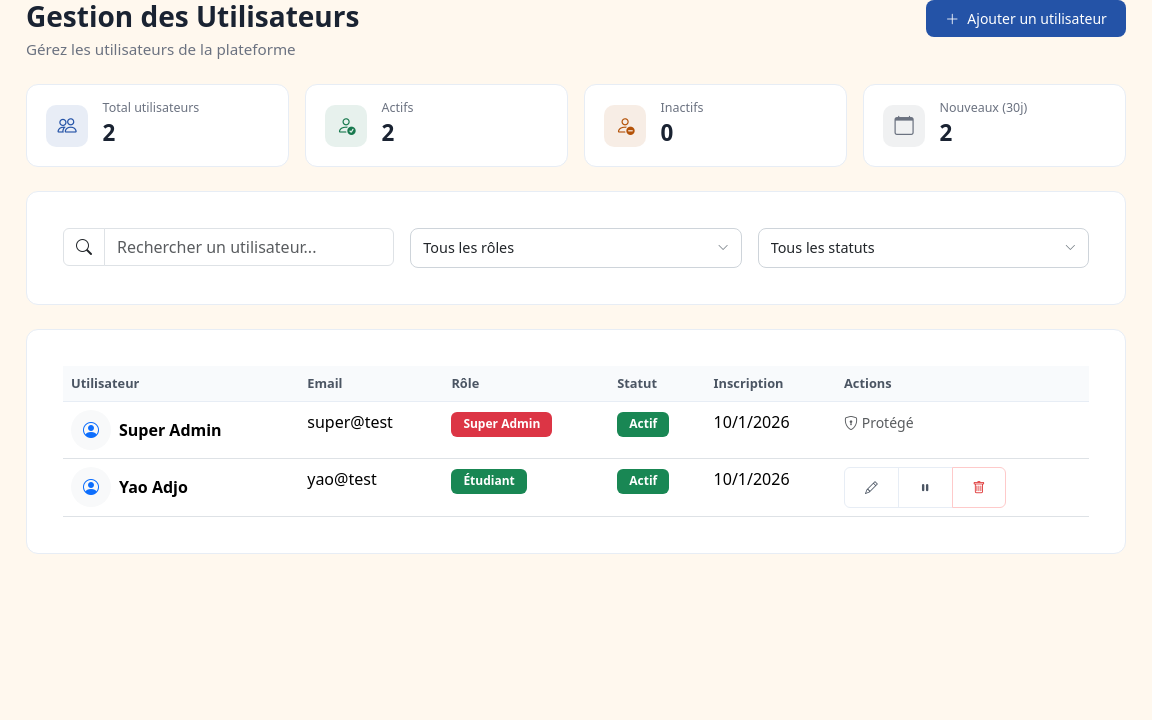
Test: Admin UsersPage › offers deactivation instead of deletion for an account with history
This screenshot has width=1152, height=720.
Step 1. Click the button with class "btn-outline-danger-custom" → (979, 488), box [952,467,1006,508]
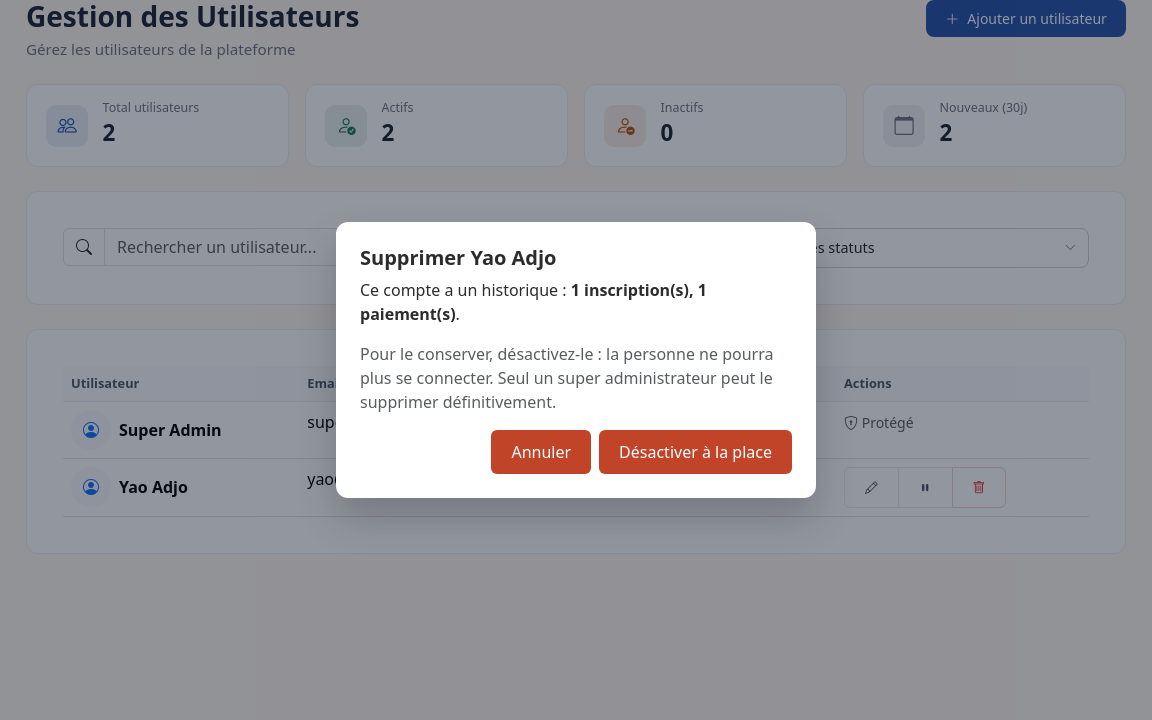
Check: the dialog shows "1 inscription(s), 1 paiement(s)", box [360,279,707,325]
Step 2. Click the button "Désactiver à la place" → (696, 452), box [599,430,792,474]
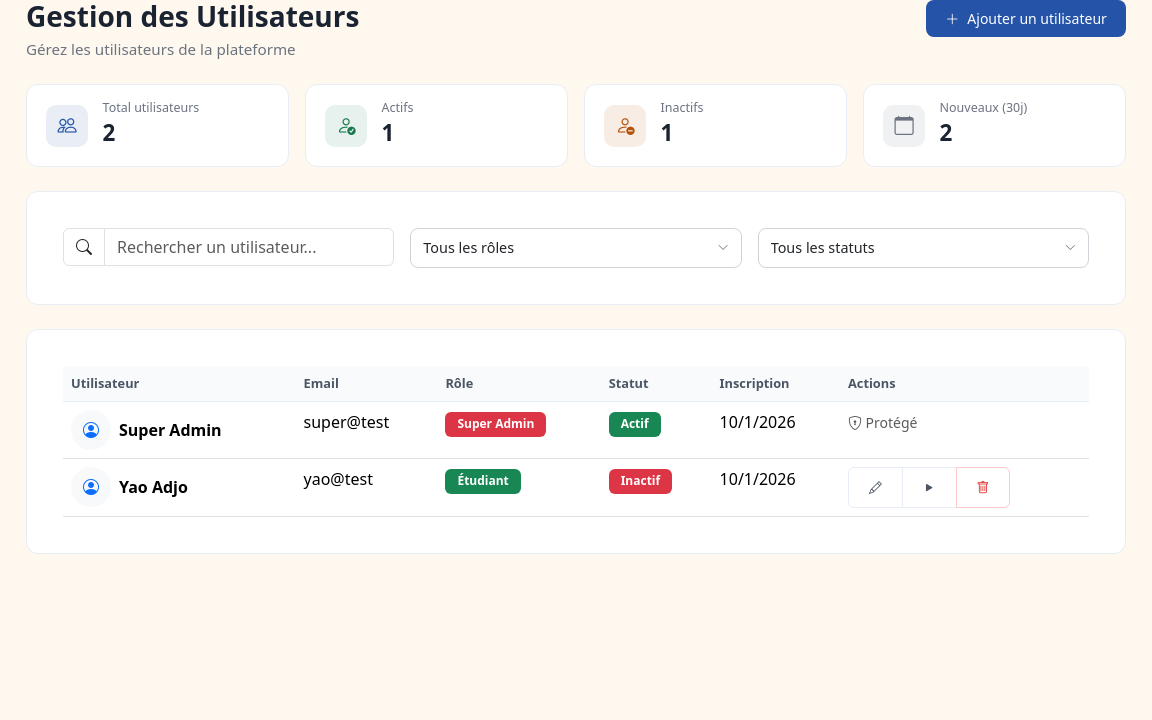
Check: the row "Yao Adjo yao@test Étudiant Inactif 10/1/2026" is shown, box [63,459,1089,517]
